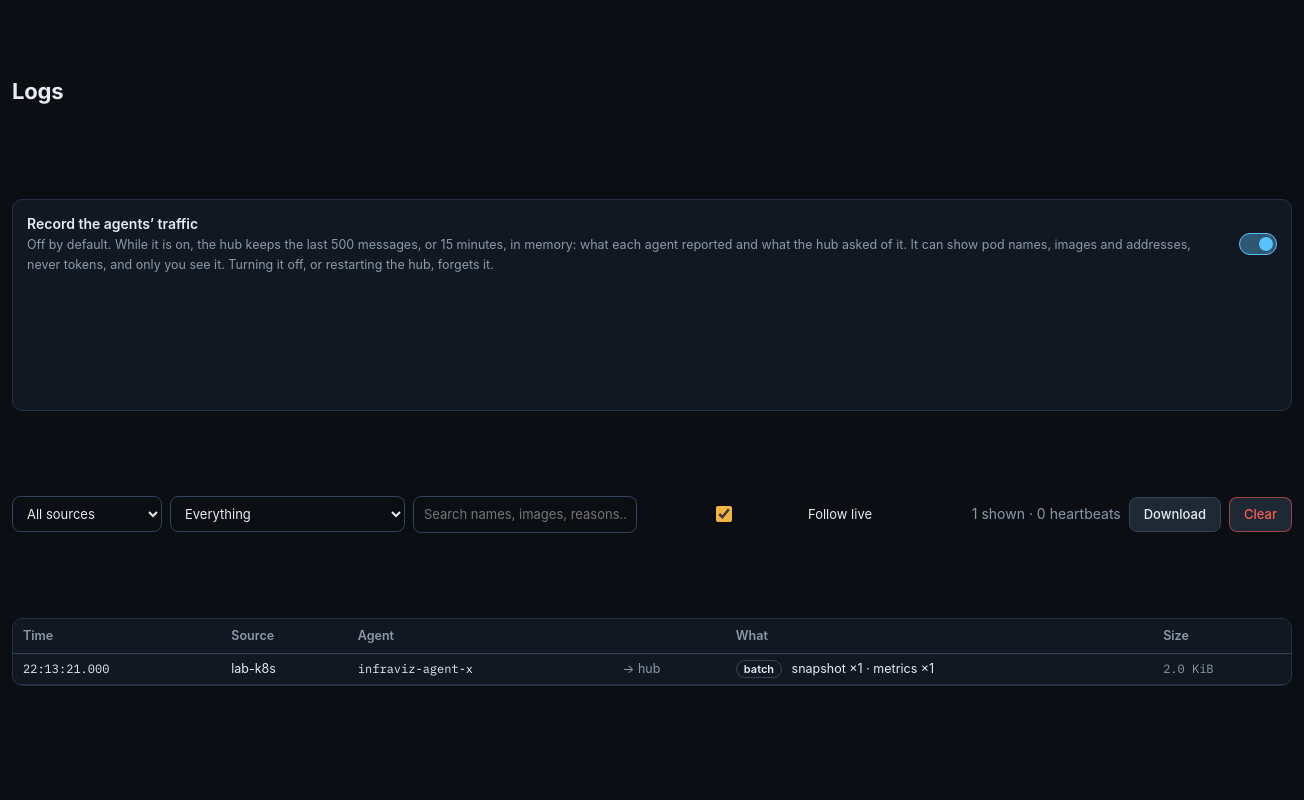
Test: the communication log page › clears what was kept
This screenshot has width=1304, height=800.
Click the button "Clear": click(1260, 514) [1229,497,1292,532]
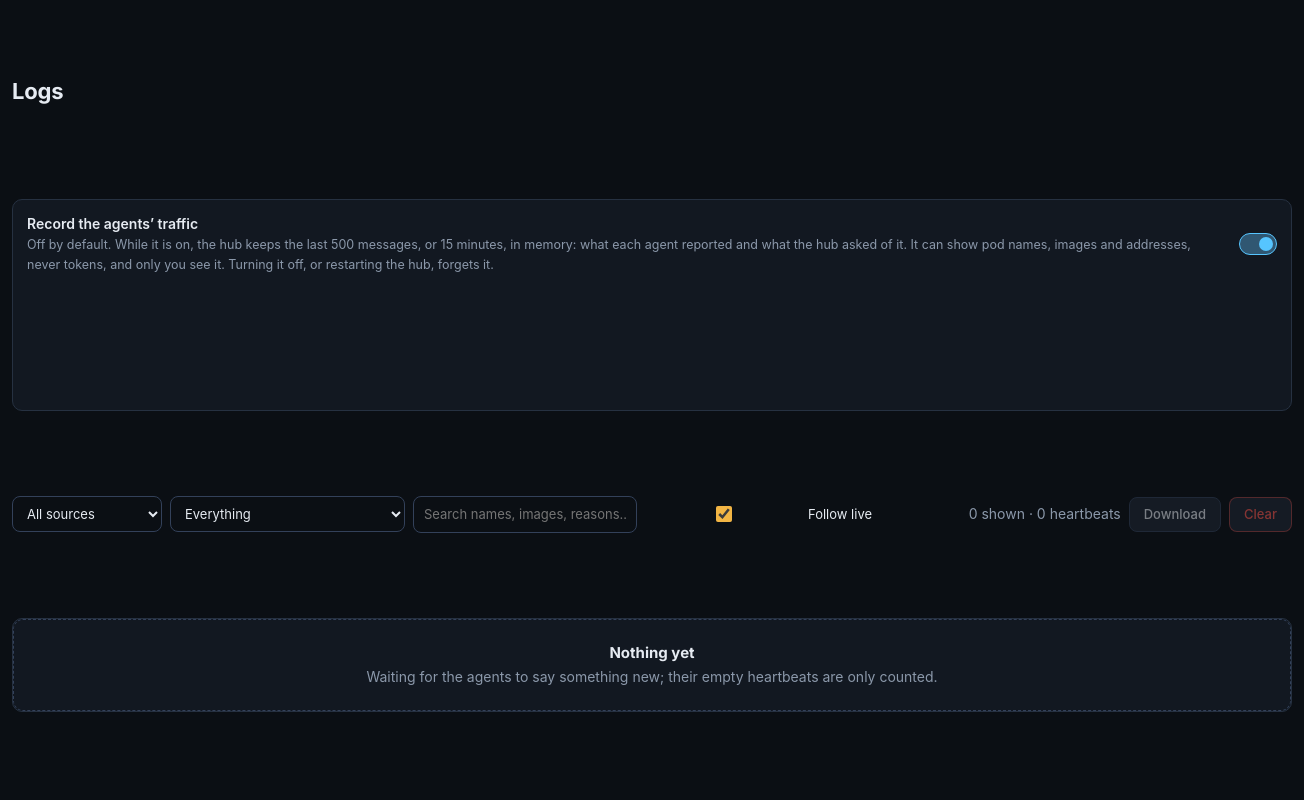
Expected: the text "Nothing yet" is shown, [609,642,694,662]
